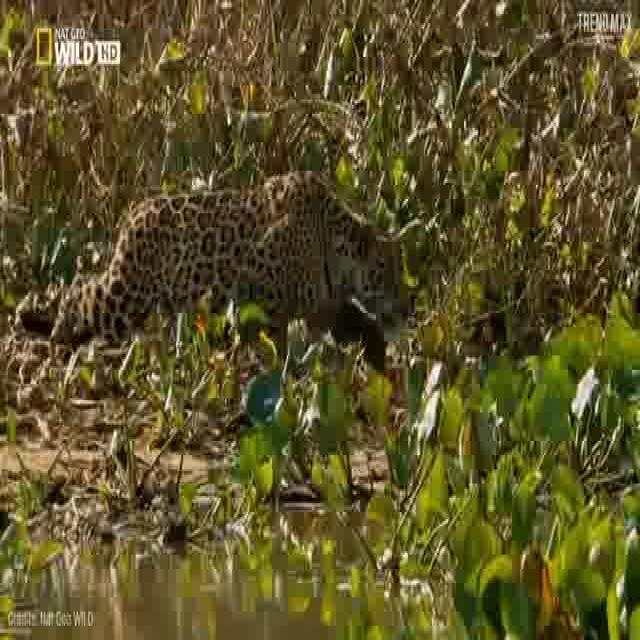Jaguar: (52, 165, 401, 347)
